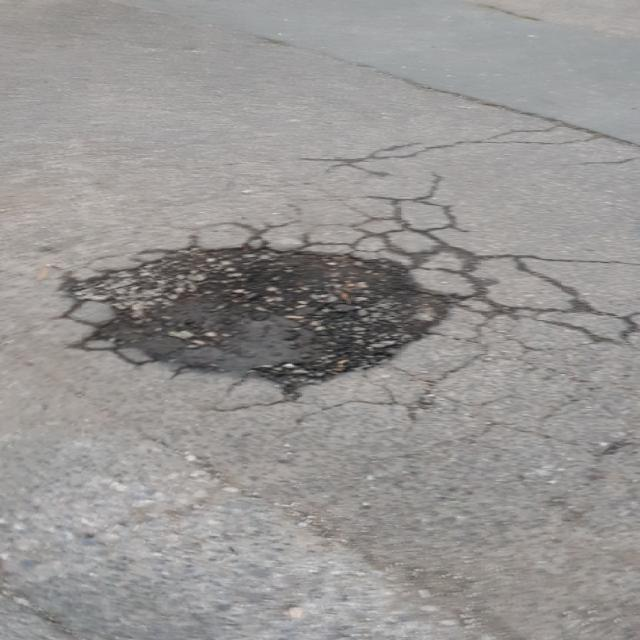Pothole: (57, 238, 452, 392)
